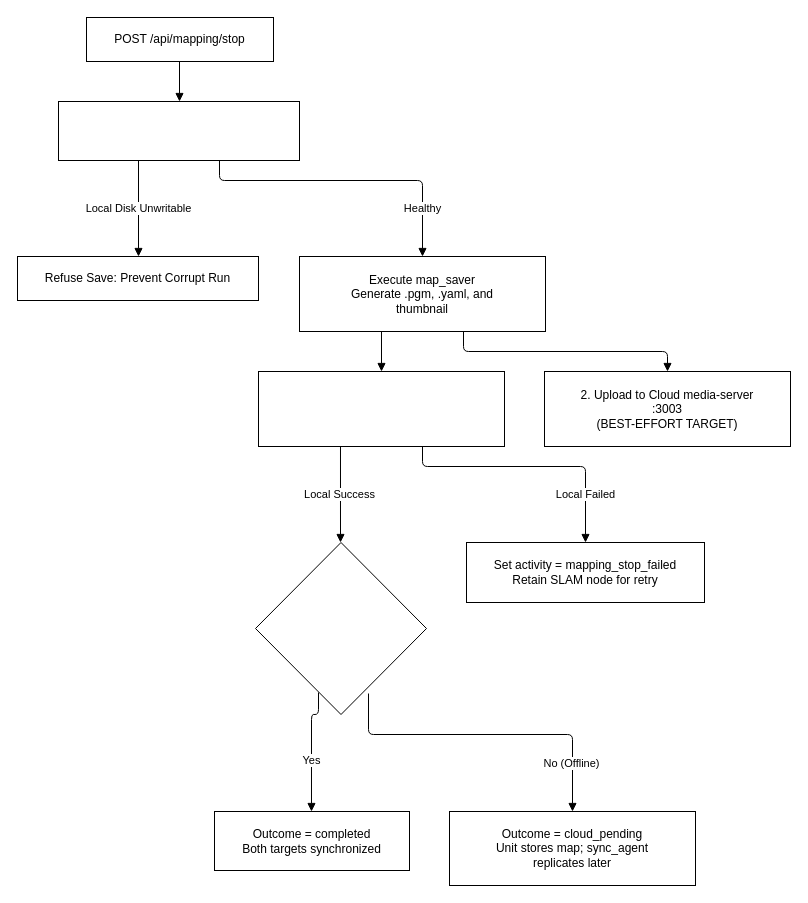
This 808x903 diagram has some shape labels left out. Here are the shapes that lost their labels. From the top down, the centre of each, then its label:
At [179,130]: "Preflight Health Check Verify local disk & media endpoints".
At [381,408]: "1. Upload to Unit media_local :3003 (MANDATORY TARGET)".
At [340,628]: "Cloud Upload Success?".
